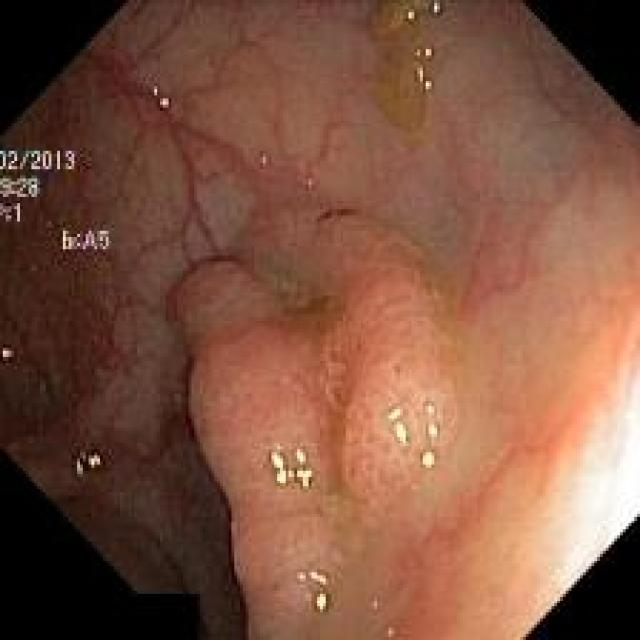Polyps: (175, 210, 501, 637)
